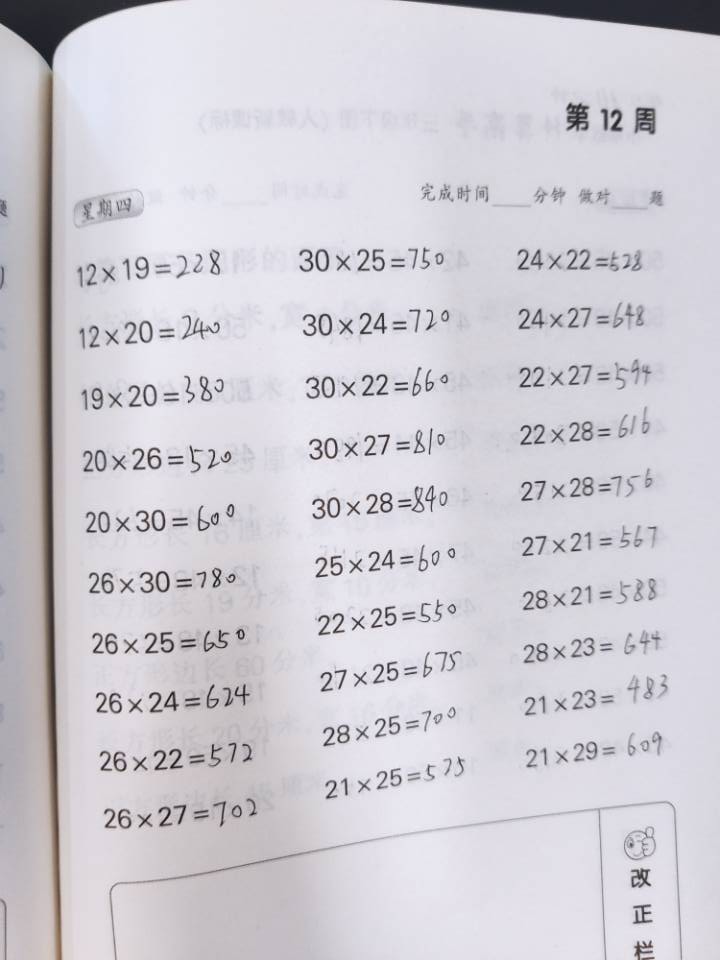equation: (323, 633, 367, 875), (226, 633, 270, 875), (310, 333, 354, 575), (504, 613, 548, 855), (464, 49, 508, 291), (545, 49, 589, 291), (341, 49, 385, 291), (173, 636, 217, 877), (443, 331, 487, 572), (548, 604, 592, 845), (425, 59, 469, 300), (260, 47, 304, 288), (298, 56, 342, 297), (386, 47, 430, 288), (277, 629, 320, 871), (171, 345, 214, 587), (524, 317, 567, 559), (483, 325, 526, 567), (502, 53, 545, 295), (214, 53, 257, 295), (217, 339, 260, 580), (262, 339, 305, 580), (415, 624, 458, 865), (398, 328, 441, 569), (367, 631, 410, 872), (354, 347, 397, 588), (461, 620, 504, 861), (567, 319, 610, 560), (591, 604, 634, 845), (172, 52, 215, 293)
